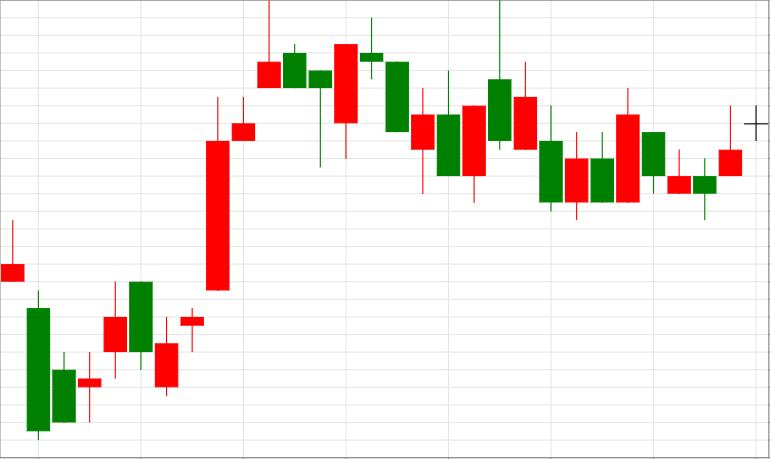shooting_star_fall: (154, 0, 281, 396)
